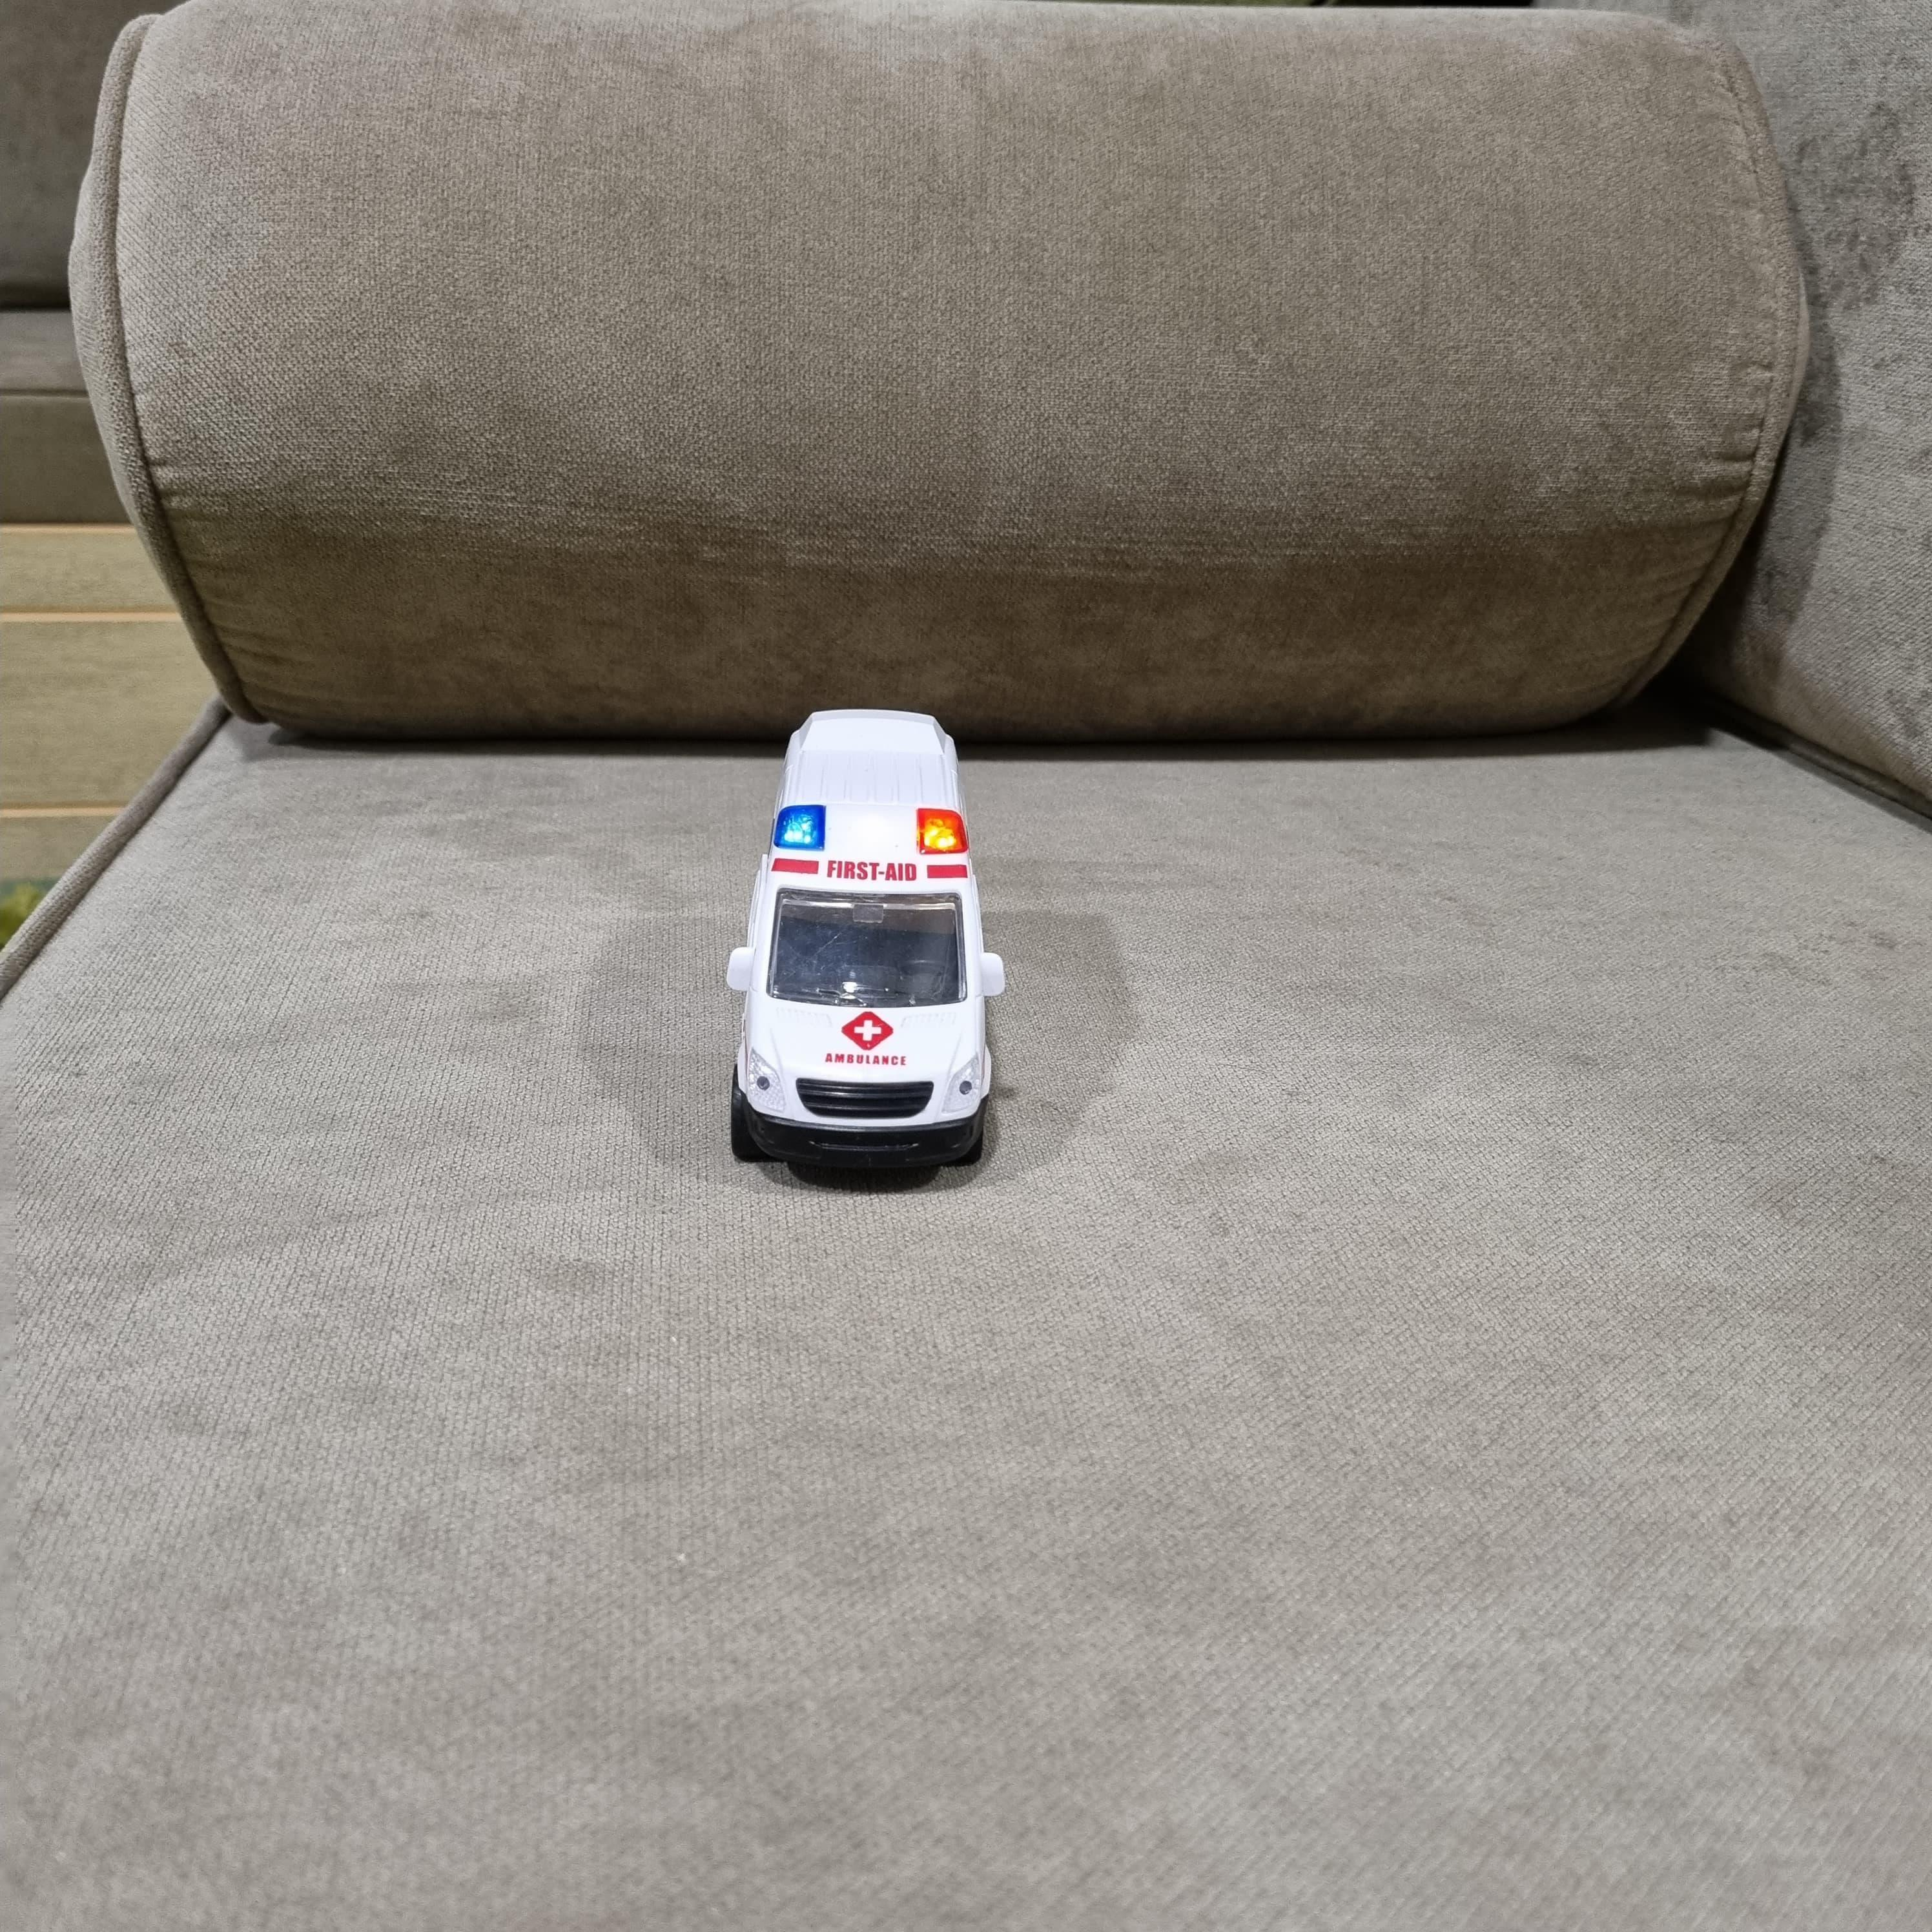ambulance_on: (727, 708, 1008, 1173)
